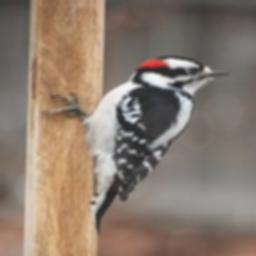Woodpecker: (40, 55, 230, 232)
